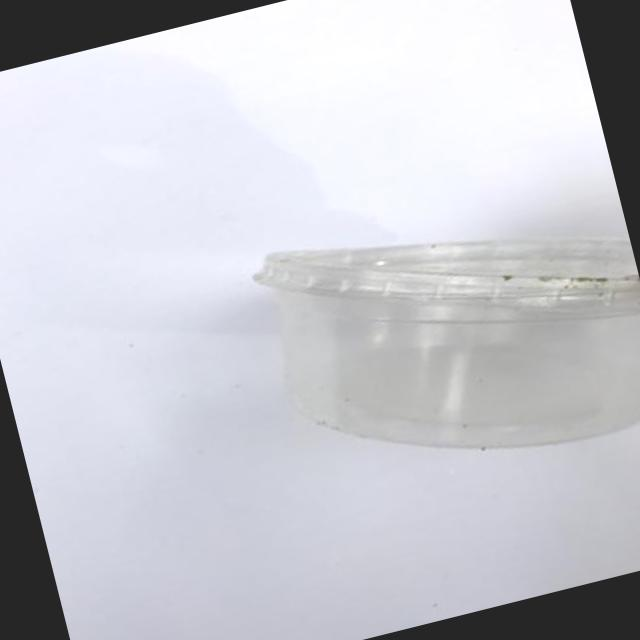plastic: (255, 239, 639, 448)
